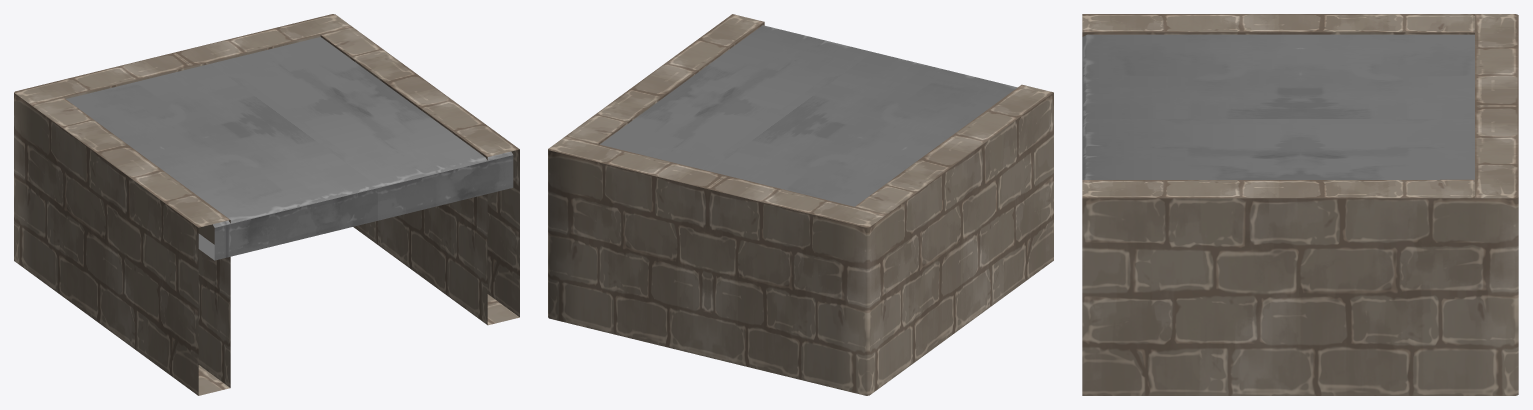
The model's file is Stairs_Exterior_PlatformU.gltf.
3 views of the same model, side by side, from view 1: azimuth 30°, elevation 25°; view 2: azimuth 150°, elevation 25°; view 3: azimuth 270°, elevation 25° (orthographic). The views are drawn at different scales.
Visible parts, largest first — view 1: Stairs_Exterior_PlatformU; view 2: Stairs_Exterior_PlatformU; view 3: Stairs_Exterior_PlatformU.
Part boxes in pixels (x1=…): Stairs_Exterior_PlatformU: x1=14, y1=14, x2=519, y2=395; Stairs_Exterior_PlatformU: x1=548, y1=14, x2=1053, y2=395; Stairs_Exterior_PlatformU: x1=1082, y1=14, x2=1518, y2=395.
Bounding box in the file's own units: 2 × 1 × 2.
2 materials, 2 textured.
